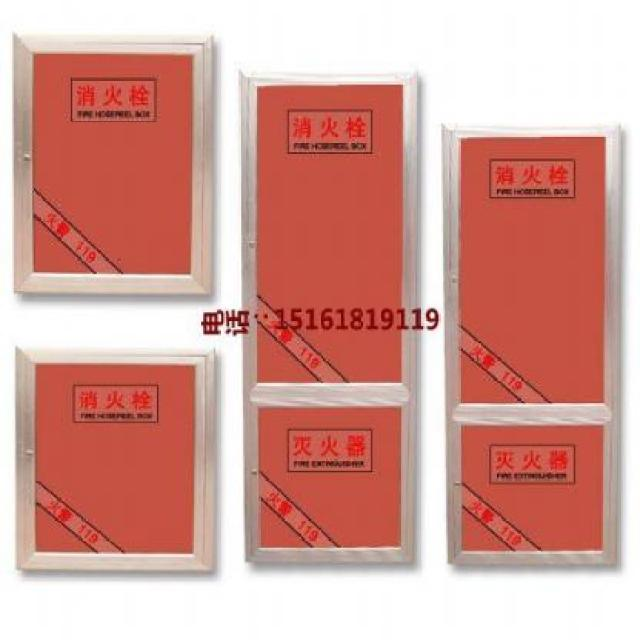firehydrant: (235, 65, 422, 569), (439, 117, 626, 574), (8, 26, 217, 299), (9, 340, 219, 578)
